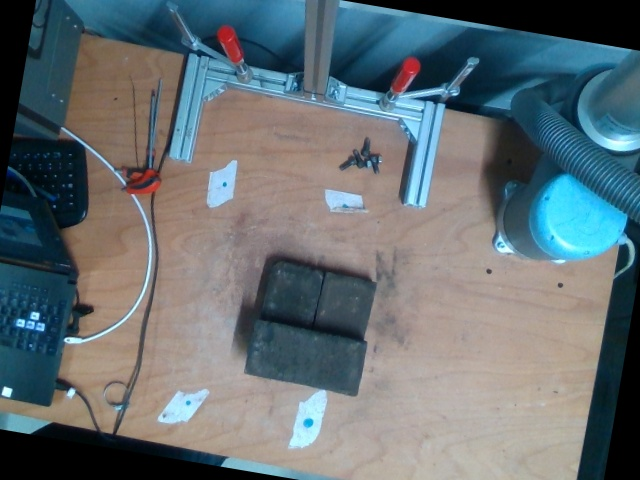brick: (246, 318, 365, 395)
